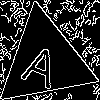A: (20, 35, 66, 90)
